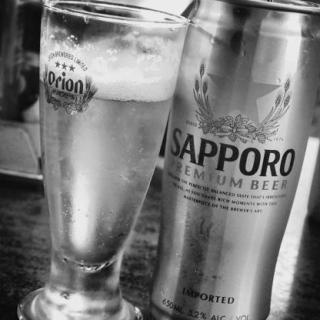alumunium_can: (150, 1, 319, 319)
objects: (16, 1, 190, 320)
